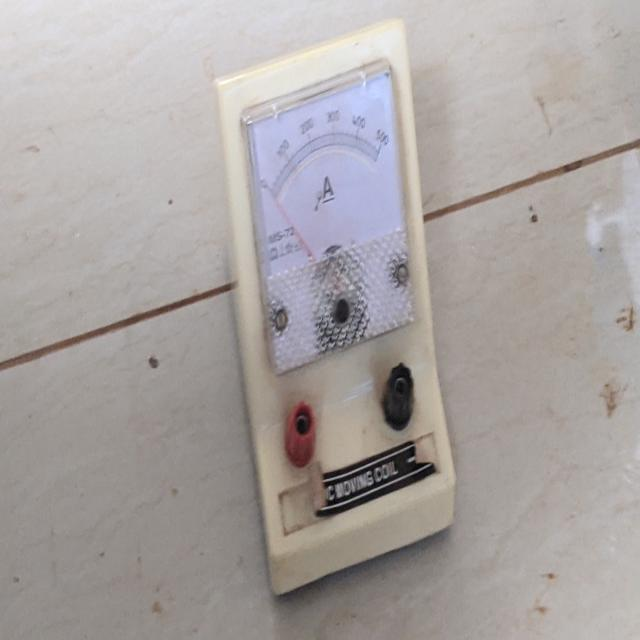Ammeter Analog: (216, 51, 458, 583)
